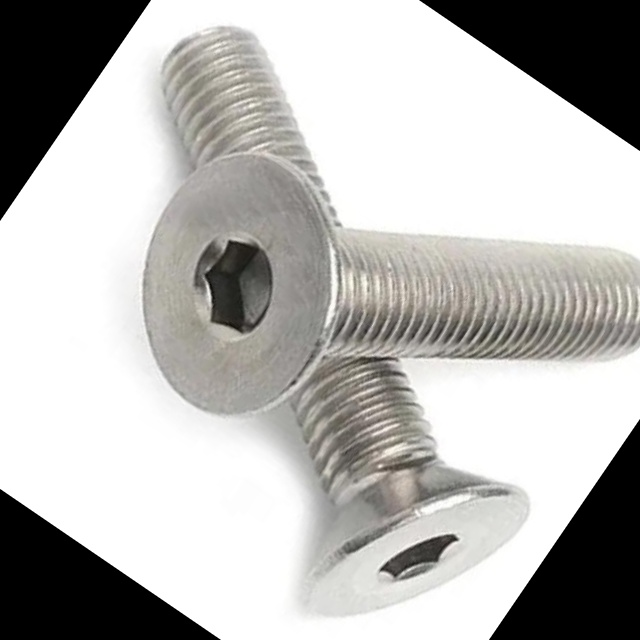allen: (79, 116, 404, 453), (285, 413, 542, 640)
